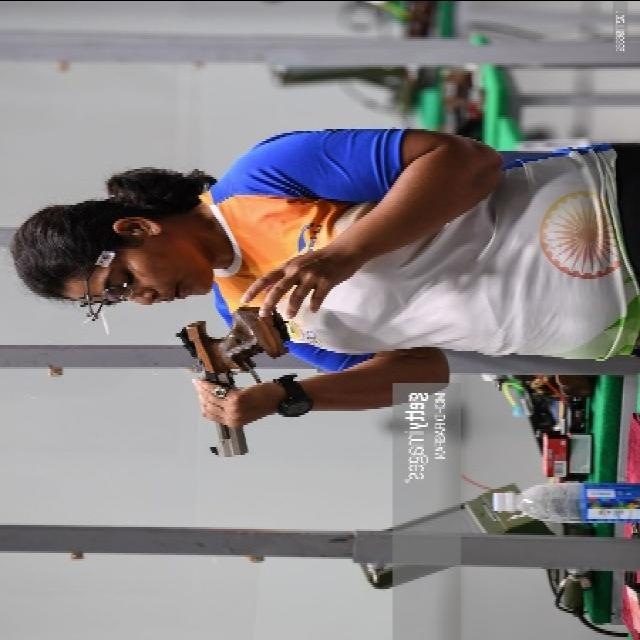handgun: (174, 305, 290, 457)
